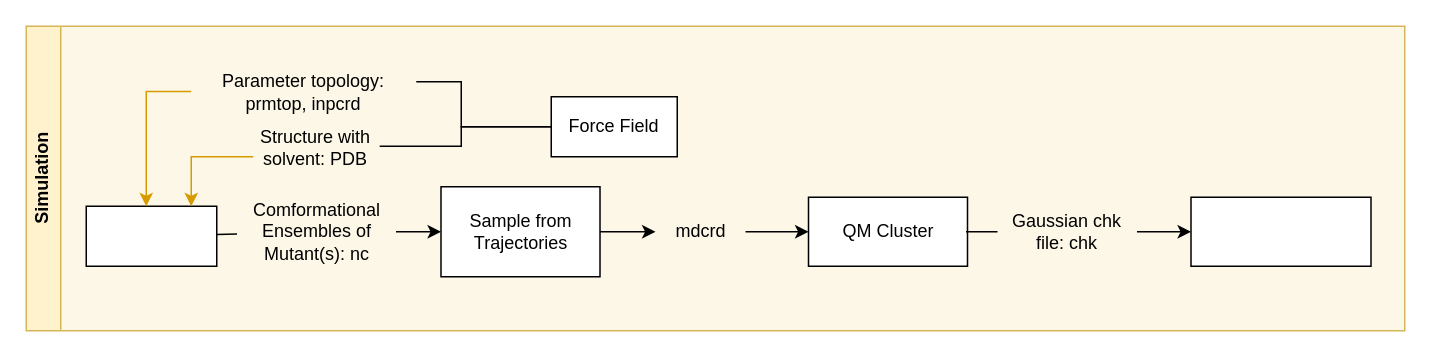
Image size: 1431x357. Some labels were removed from this diagram. The shapes that lost their labels are listed below. From the top down, each one's centre as x and y in pixels, then its label:
the point at 151,235: MD Simulation (Amber)
the point at 1280,231: FormChk
